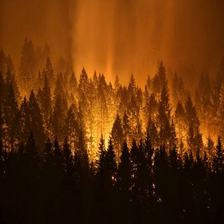fire: (38, 61, 190, 179)
